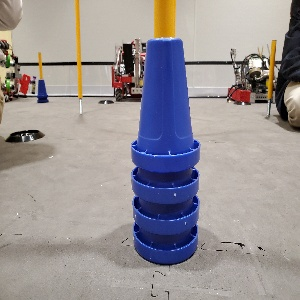Blue_2: (35, 80, 48, 103)
Blue_4: (130, 36, 200, 265)
